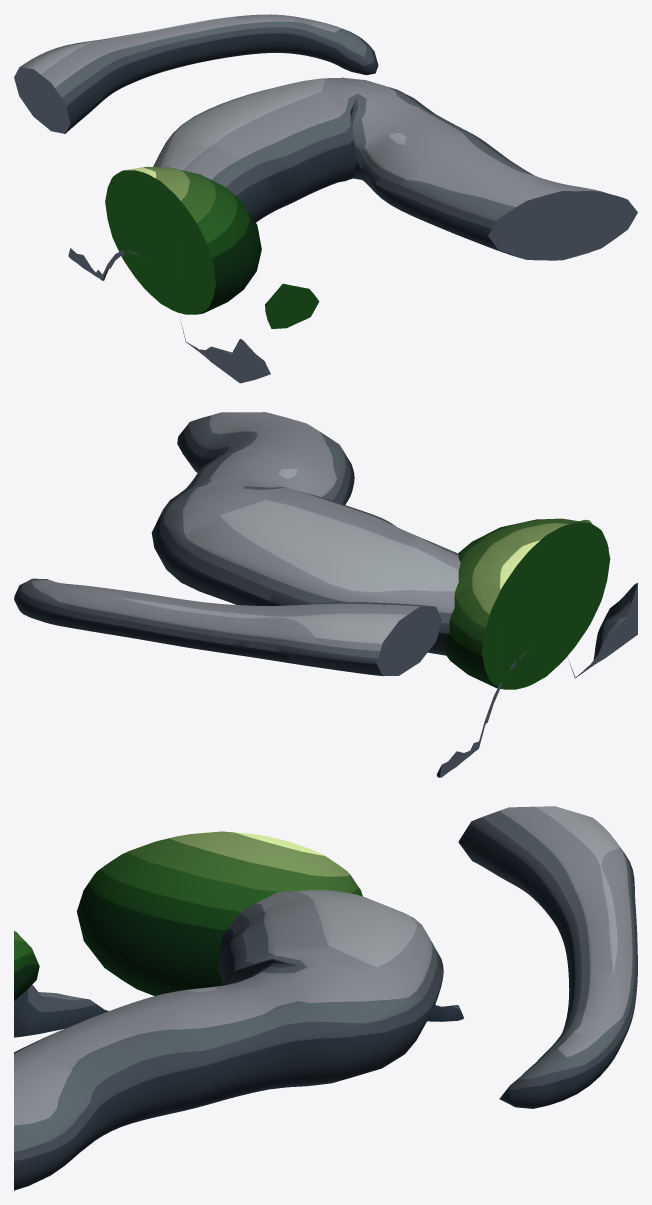
The model's file is torm_beetle_tr.glb.
3 renders of one model, top to bottom at view 1: azimuth 30°, elevation 25°; view 2: azimuth 150°, elevation 25°; view 3: azimuth 270°, elevation 25°, orthographic. The views are drawn at different scales.
Parts seen in each view (by area): view 1: torm_beetle_tr; view 2: torm_beetle_tr; view 3: torm_beetle_tr.
Boxes of the visible parts, <box> form: torm_beetle_tr: <box>14,14,637,383</box>; torm_beetle_tr: <box>14,412,637,777</box>; torm_beetle_tr: <box>14,806,637,1190</box>.
Size of the model in its own units: 21.1 by 8.3 by 21.87.
